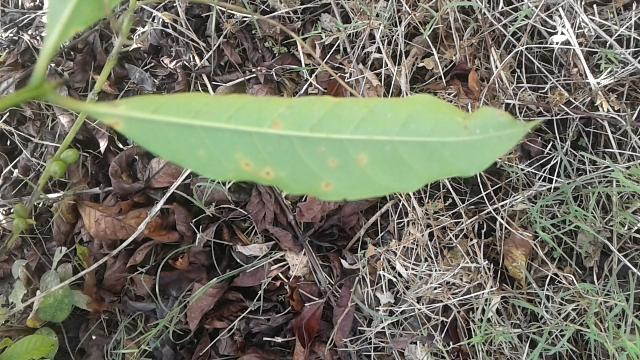rust_level_2: (80, 89, 548, 203)
